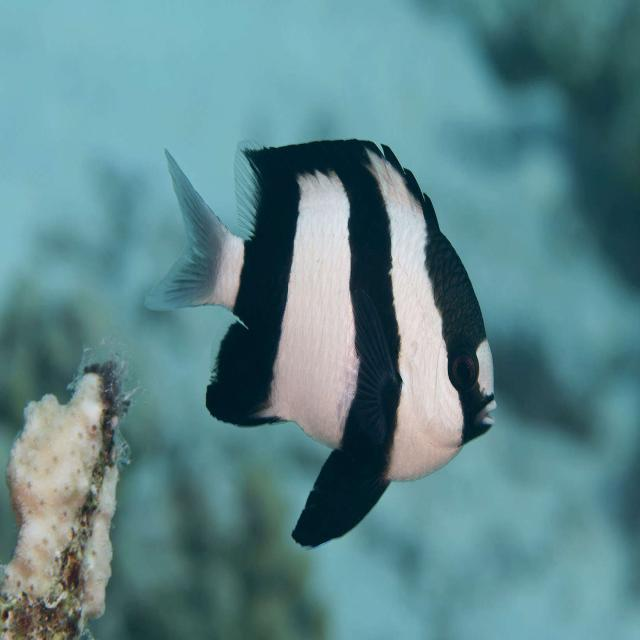ThreeStripedDamselfish: (156, 130, 502, 554)
